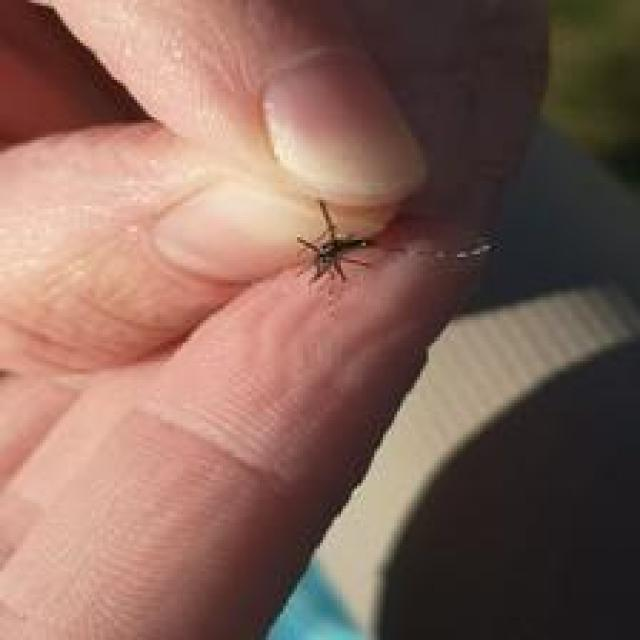Aedes albopictus: (293, 197, 373, 286)
